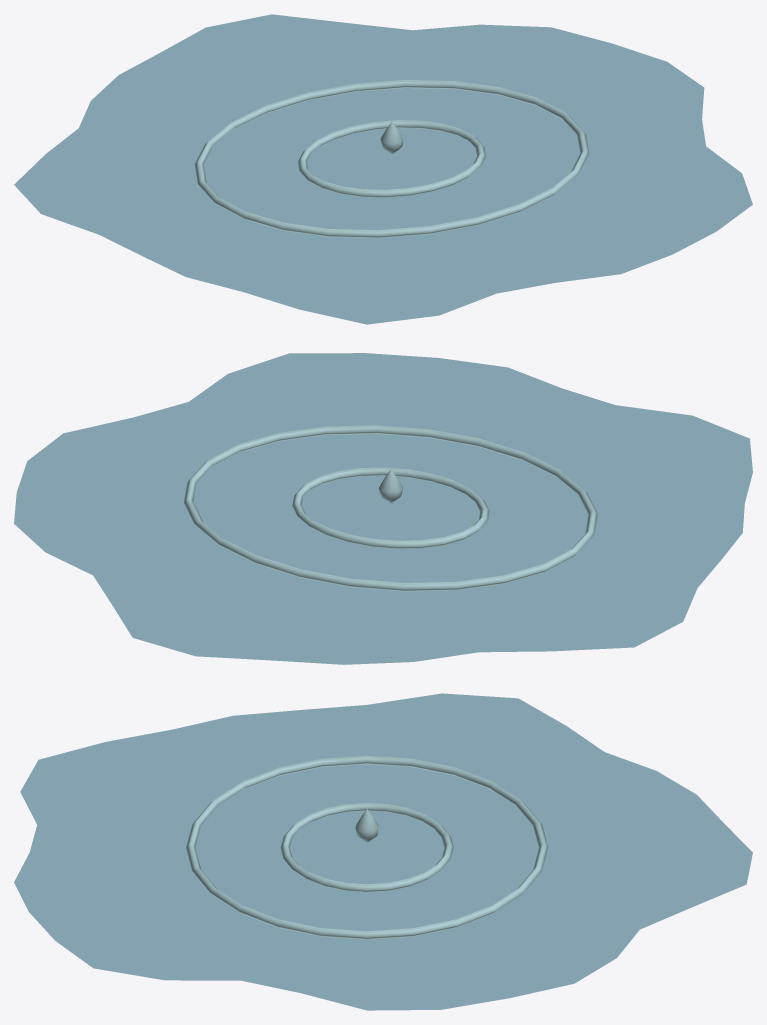
File: leak.glb
The picture shows the model from 3 angles, top to bottom: view 1: azimuth 30°, elevation 25°; view 2: azimuth 150°, elevation 25°; view 3: azimuth 270°, elevation 25°; orthographic projection. The views are drawn at different scales.
Parts seen in each view (by area): view 1: Irregular flat puddle, Water ripple.001, Water ripple; view 2: Irregular flat puddle, Water ripple.001, Water ripple, Single splash drop; view 3: Irregular flat puddle, Water ripple.001, Water ripple.
Part boxes in pixels (box(x1,y1,x2,y2)): Irregular flat puddle: box(14, 14, 752, 324); Water ripple.001: box(194, 79, 589, 238); Water ripple: box(298, 120, 485, 197); Irregular flat puddle: box(14, 353, 752, 664); Water ripple.001: box(184, 425, 597, 591); Water ripple: box(292, 467, 489, 549); Single splash drop: box(379, 469, 402, 503); Irregular flat puddle: box(14, 693, 752, 1010); Water ripple.001: box(186, 755, 548, 939); Water ripple: box(280, 802, 453, 892).
Bounding box in the file's own units: 0.5602 × 0.036 × 0.5517.
